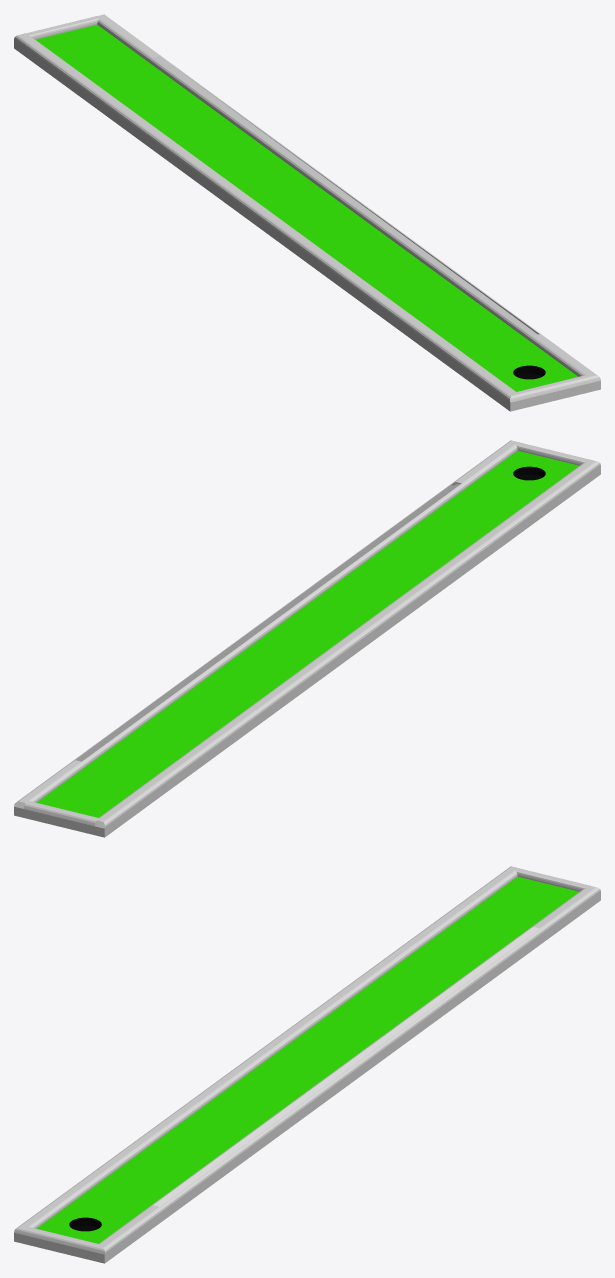
Rendered from C2Intro.fbx.
3 renders of one model, top to bottom at view 1: azimuth 30°, elevation 25°; view 2: azimuth 150°, elevation 25°; view 3: azimuth 330°, elevation 25°, orthographic.
Visible parts, largest first — view 1: course, walls; view 2: course, walls; view 3: course, walls.
Boxes of the visible parts, x1,y1,x2,y2 form: course: (35,24,577,391); walls: (14,14,600,411); course: (37,450,579,817); walls: (14,440,600,837); course: (37,876,579,1243); walls: (14,866,600,1263).
Size of what is drawn, in the model's own units: 535 by 77.06 by 5068.
